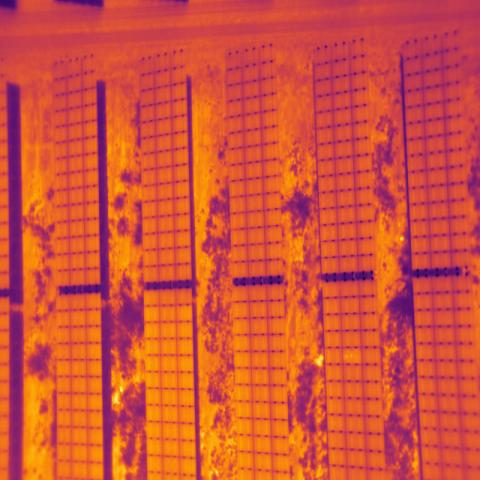fault: (343, 346, 360, 366)
